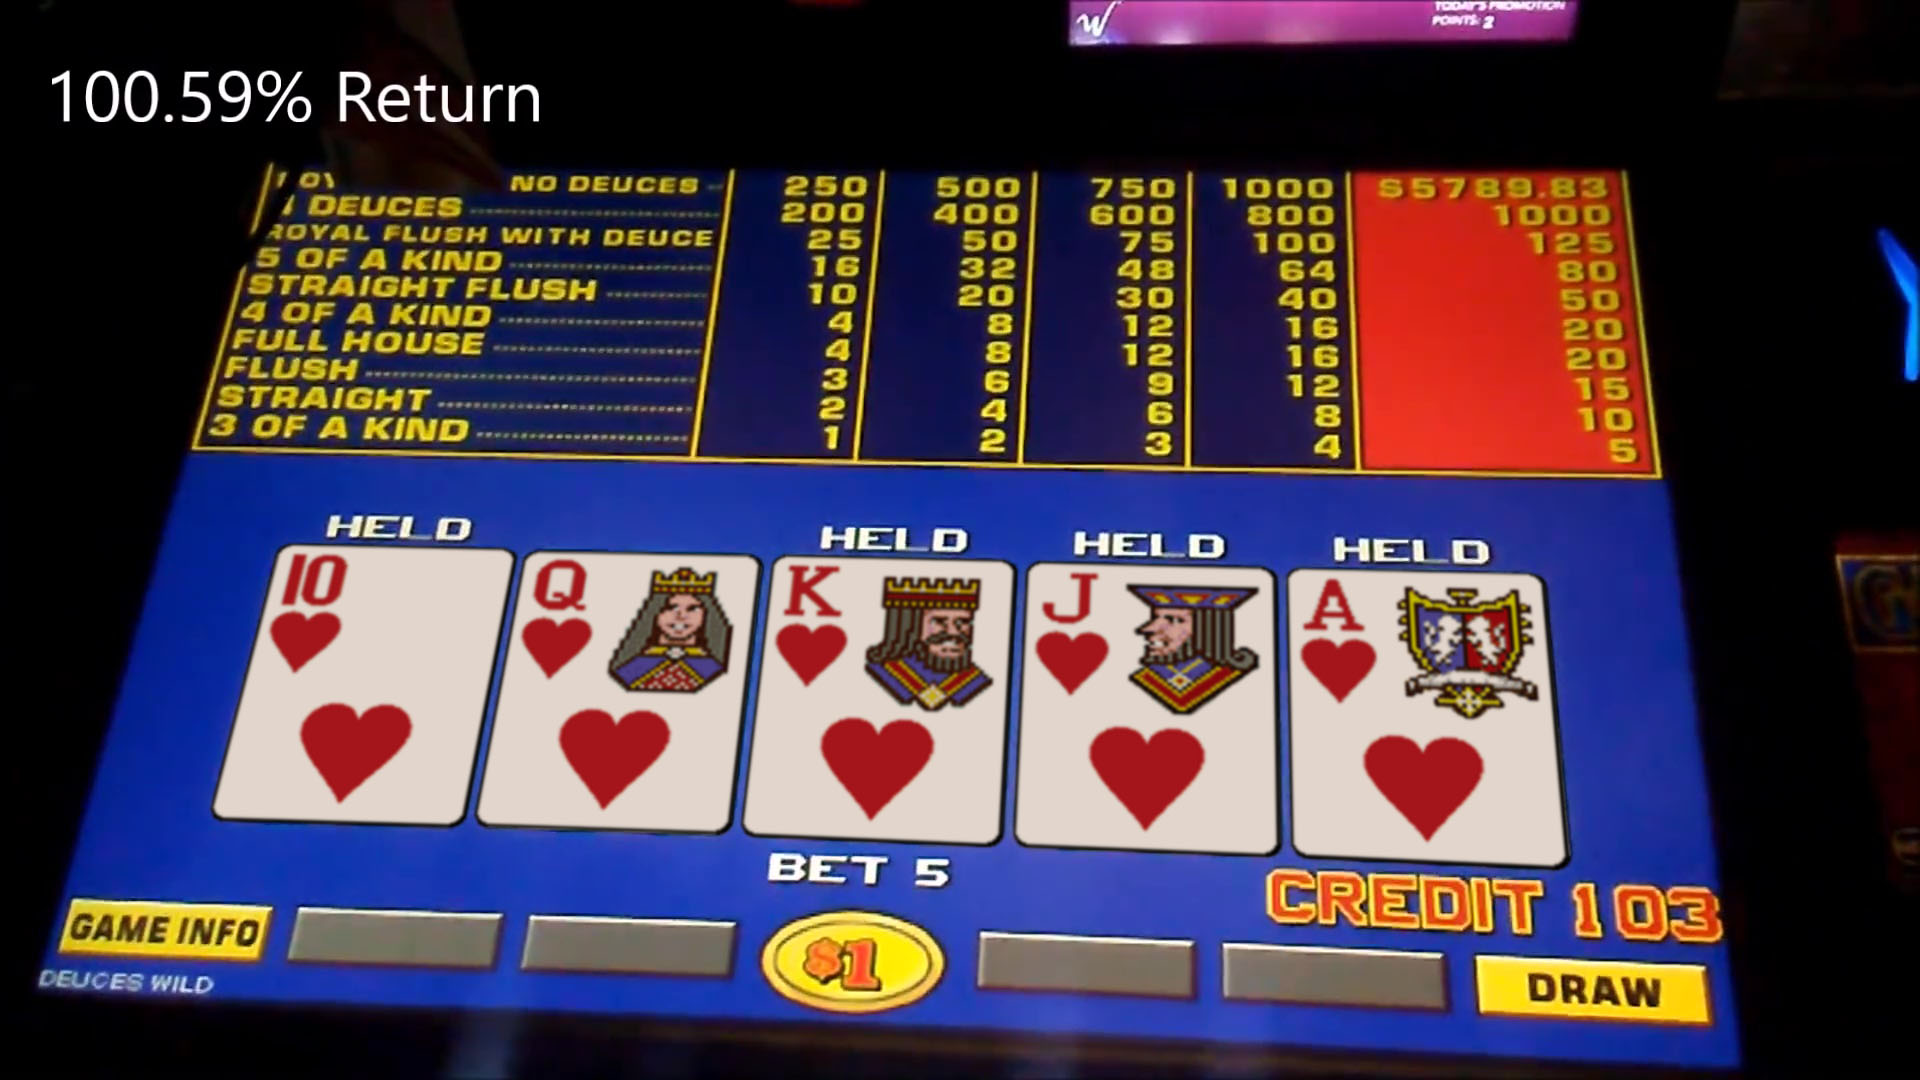HA: (1294, 575, 1540, 707)
HJ: (1027, 566, 1270, 704)
HK: (771, 558, 1007, 696)
HQ: (520, 553, 745, 688)
HT: (265, 549, 491, 684)
